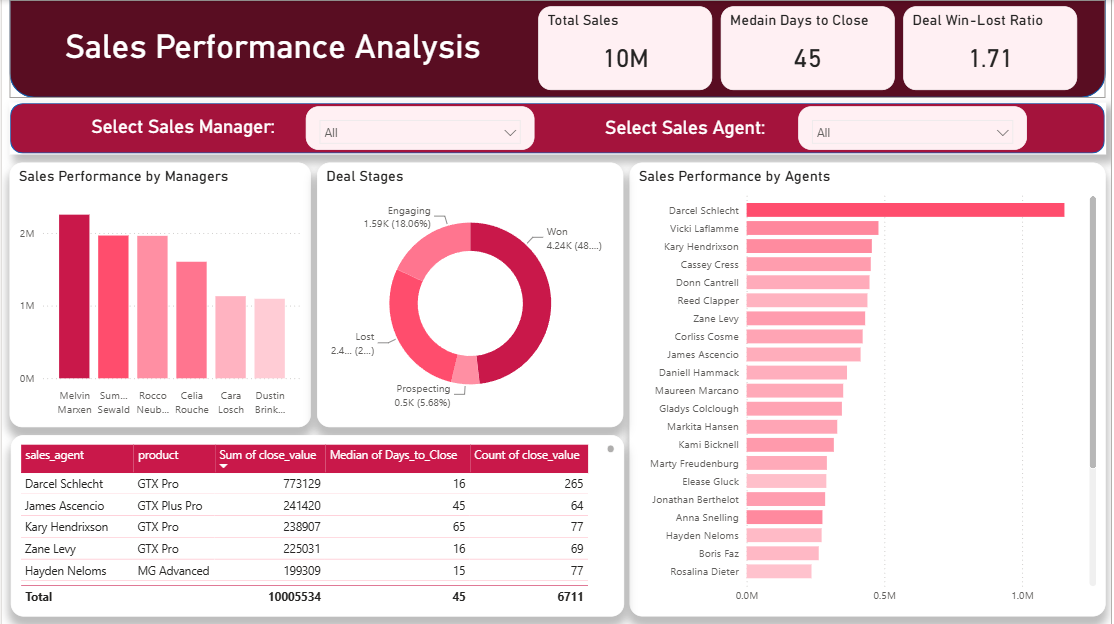

The dashboard page shown, as its layout file describes it:
{"tool":"powerbi","page":{"name":"Page 1","canvas":[1280,720],"ordinal":0},"visuals":[{"type":"shape","box":[8.7,118.3,1265.3,60],"z":0},{"type":"shape","box":[8.7,0,1265.3,112.5],"z":1000},{"type":"card","title":"Total Sales","fields":{"Values":["Sum(sales_pipeline.close_value)"]},"box":[618.9,7.2,200.5,96.7],"z":2000},{"type":"barChart","title":"Sales Performance by Agents","fields":{"Category":["sales_pipeline.sales_agent"],"Y":["Sum(sales_pipeline.close_value)"]},"box":[724.3,187.6,549.7,523.7],"z":3000},{"type":"columnChart","title":"Sales Performance by Managers","fields":{"Category":["sales_teams.manager"],"Y":["Sum(sales_pipeline.close_value)"]},"box":[8.7,187.6,347.7,305.9],"z":4000},{"type":"donutChart","title":"Deal Stages","fields":{"Category":["sales_pipeline.deal_stage"],"Y":["CountNonNull(sales_pipeline.deal_stage)"]},"box":[363.6,187.6,353.5,305.9],"z":5000},{"type":"card","title":"Deal Win-Lost Ratio","fields":{"Values":["sales_pipeline.Completed Count"]},"box":[1040.2,7.2,200.5,96.7],"z":6000},{"type":"tableEx","fields":{"Values":["sales_pipeline.sales_agent","sales_pipeline.product","Sum(sales_pipeline.close_value)","Median(sales_pipeline.Days_to_Close)","CountNonNull(sales_pipeline.close_value)"]},"box":[10.1,502.1,708.4,209.2],"z":7000},{"type":"card","title":"Medain Days to Close","fields":{"Values":["Median(sales_pipeline.Days_to_Close)"]},"box":[829.6,7.2,200.5,96.7],"z":8000},{"type":"slicer","title":"Sales Agent","fields":{"Values":["sales_pipeline.sales_agent"]},"box":[919,122.6,264,50.5],"z":9000},{"type":"slicer","title":"Manager","fields":{"Values":["sales_teams.manager"]},"box":[350.6,122.6,264,50.5],"z":10000},{"type":"textbox","box":[68,26,493.4,88],"z":11000},{"type":"textbox","box":[98.1,128.4,264,50.5],"z":12000},{"type":"textbox","box":[691.1,129.8,251,50.5],"z":13000}]}

Visuals, with their boxes in screenshot pixels (x1, y1, x2, y2), scaled from the page's 1280x720 canvas onto the 1114x624 screenshot:
shape: 8/103/1109/155
shape: 8/0/1109/98
"Total Sales" card: 539/6/713/90
"Sales Performance by Agents" barChart: 630/163/1109/616
"Sales Performance by Managers" columnChart: 8/163/310/428
"Deal Stages" donutChart: 316/163/624/428
"Deal Win-Lost Ratio" card: 905/6/1080/90
tableEx - sales_pipeline.sales_agent x sales_pipeline.product: 9/435/625/616
"Medain Days to Close" card: 722/6/897/90
"Sales Agent" slicer: 800/106/1030/150
"Manager" slicer: 305/106/535/150
textbox: 59/23/489/99
textbox: 85/111/315/155
textbox: 601/112/820/156
